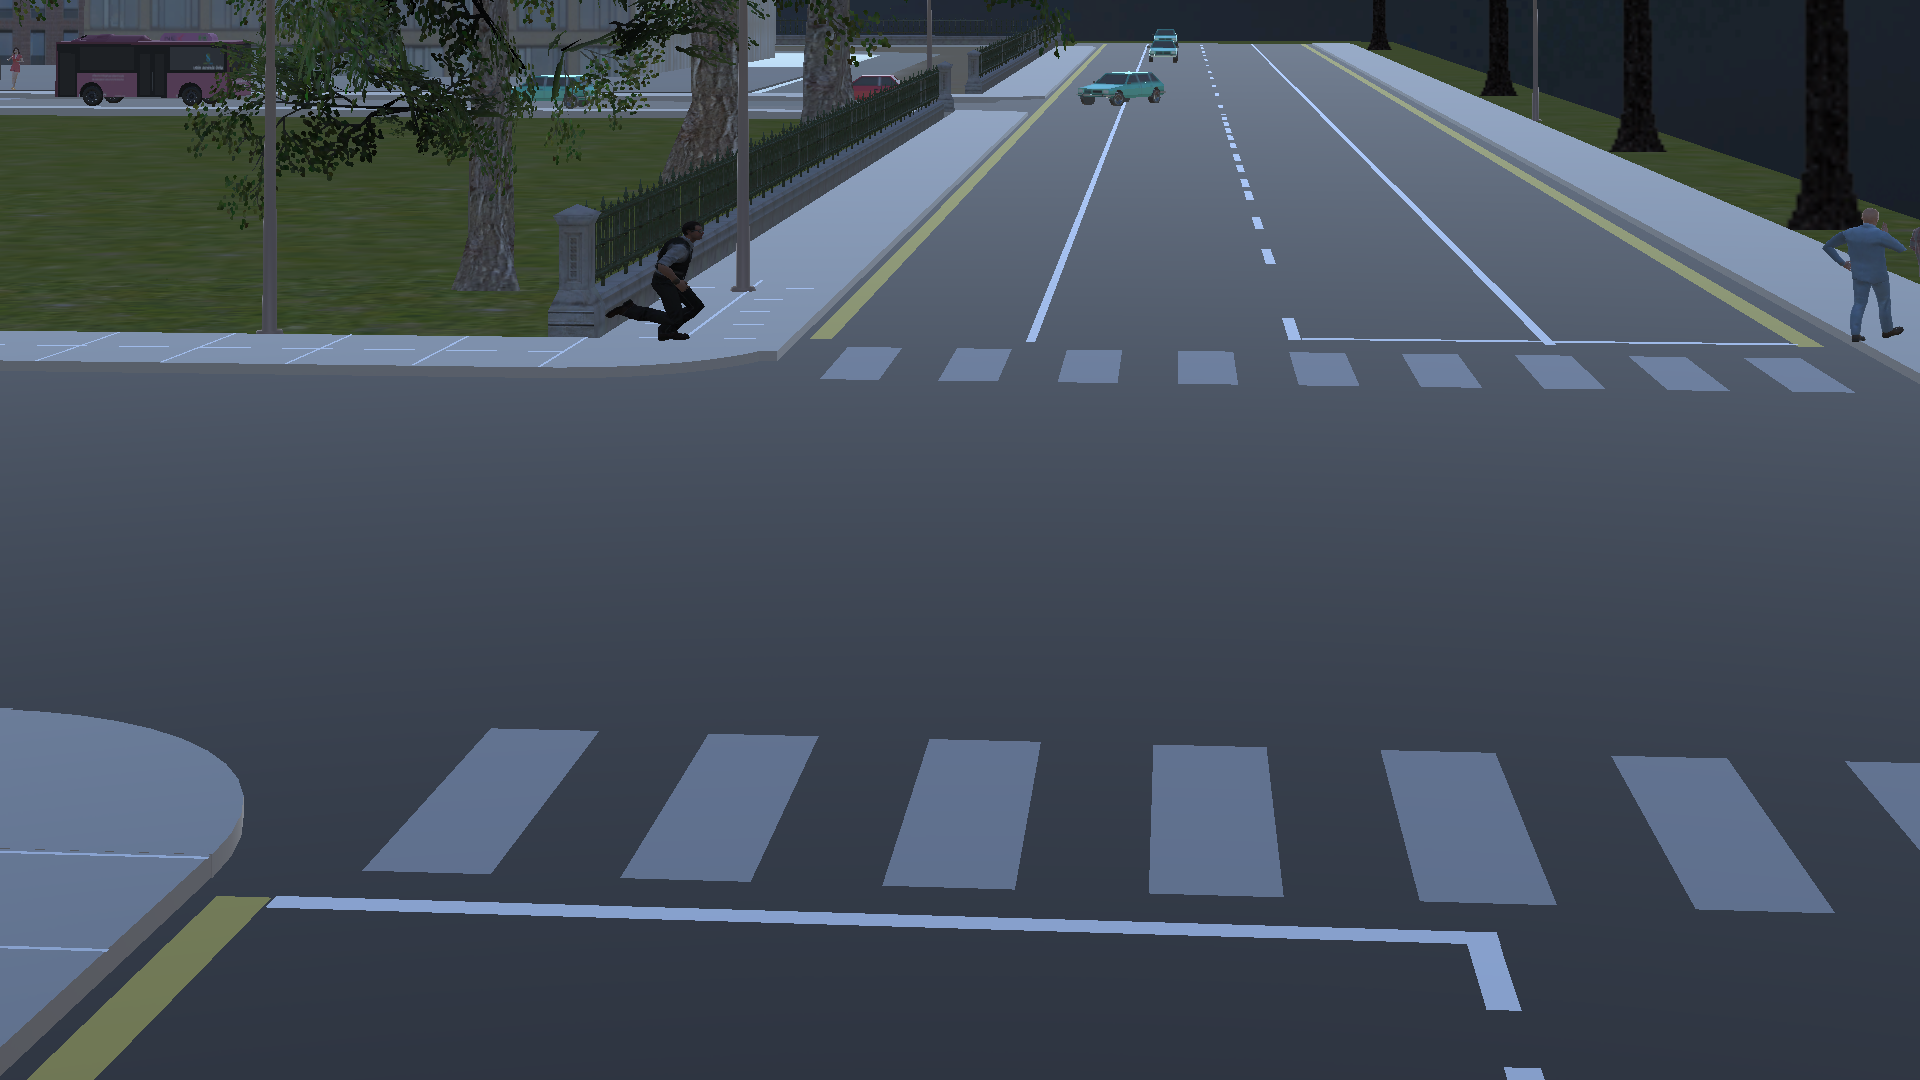pedestrian: (602, 208, 720, 368), (1812, 192, 1910, 346)
